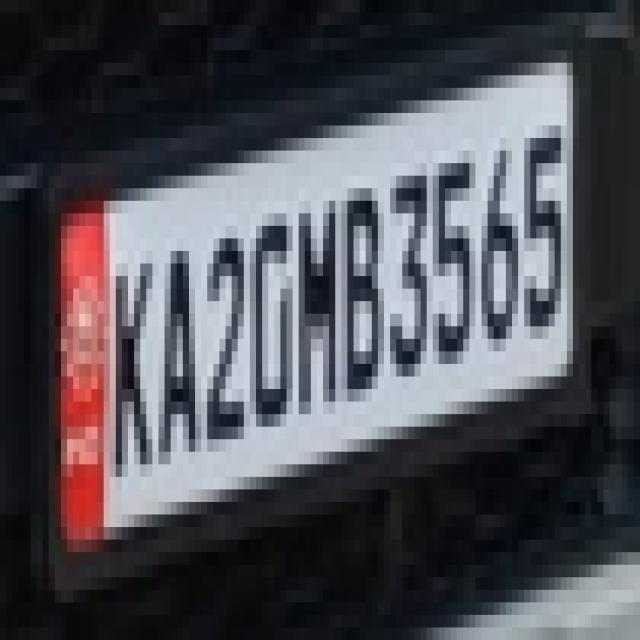0: (249, 212, 294, 435)
2: (204, 227, 246, 447)
3: (390, 158, 430, 389)
5: (522, 118, 568, 336), (432, 155, 474, 368)
6: (478, 142, 520, 364)
A: (158, 242, 198, 466)
B: (343, 191, 386, 400)
K: (108, 256, 158, 478)
M: (296, 194, 341, 427)
